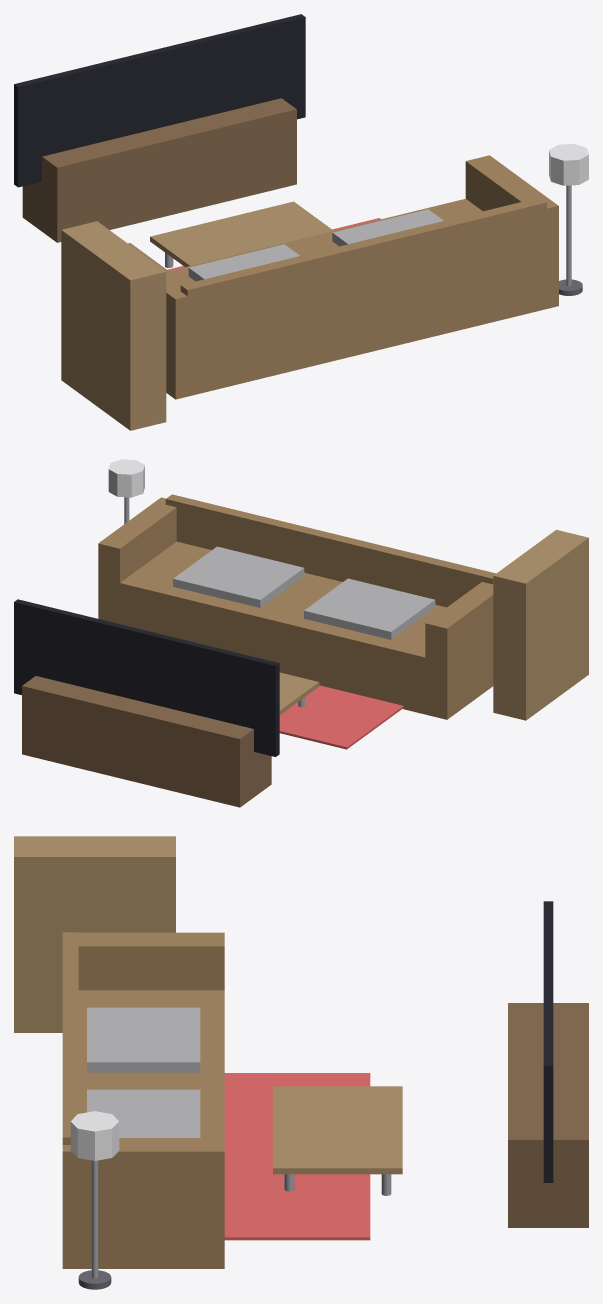
The model's file is furniture_livingroom.fbx.
3 views of the same model, one above another, from view 1: azimuth 30°, elevation 25°; view 2: azimuth 150°, elevation 25°; view 3: azimuth 270°, elevation 25° (orthographic). The views are drawn at different scales.
Visible parts, largest first — view 1: SofaBack, TV, SofaBase, TVStand, ShelfFrame, CoffeeTable, SofaArm_R, SofaArm_L, Cushion_1, Cushion_2, LampShade, LampPole; view 2: SofaBase, TV, TVStand, ShelfFrame, SofaBack, SofaArm_L, Cushion_2, Cushion_1, Rug, SofaArm_R, LampShade, CoffeeTable; view 3: ShelfFrame, SofaArm_R, TVStand, Rug, CoffeeTable, SofaBase, SofaArm_L, Cushion_1, Cushion_2, SofaBack, TV, LampShade (+2 smaller).
Part boxes in pixels (<box>): SofaBack: <box>180,197,546,364</box>; TV: <box>14,14,305,187</box>; SofaBase: <box>169,198,546,396</box>; TVStand: <box>22,98,296,242</box>; ShelfFrame: <box>61,221,166,430</box>; CoffeeTable: <box>150,201,333,266</box>; SofaArm_R: <box>465,155,558,311</box>; SofaArm_L: <box>128,243,199,399</box>; Cushion_1: <box>188,244,299,281</box>; Cushion_2: <box>332,209,443,246</box>; LampShade: <box>549,144,588,185</box>; LampPole: <box>566,185,571,286</box>; SofaBase: <box>109,541,446,716</box>; TV: <box>14,599,279,756</box>; TVStand: <box>22,676,271,807</box>; ShelfFrame: <box>493,529,588,720</box>; SofaBack: <box>165,494,495,607</box>; SofaArm_L: <box>425,582,493,719</box>; Cushion_2: <box>173,546,304,607</box>; Cushion_1: <box>304,578,435,639</box>; Rug: <box>279,685,403,749</box>; SofaArm_R: <box>98,497,176,623</box>; LampShade: <box>108,459,144,497</box>; CoffeeTable: <box>279,672,319,714</box>; ShelfFrame: <box>14,836,175,1032</box>; SofaArm_R: <box>62,1138,224,1268</box>; TVStand: <box>508,1003,588,1227</box>; Rug: <box>224,1073,370,1240</box>; CoffeeTable: <box>273,1086,402,1174</box>; SofaBase: <box>78,990,224,1137</box>; SofaArm_L: <box>78,932,224,990</box>; Cushion_1: <box>87,1007,200,1072</box>; Cushion_2: <box>87,1089,200,1137</box>; SofaBack: <box>62,932,78,1144</box>; TV: <box>543,901,553,1182</box>; LampShade: <box>70,1111,119,1160</box>.
Size of the model in its own units: 4.1 by 1.2 by 3.55.
